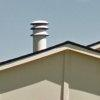Chimney: (24, 13, 55, 57)
